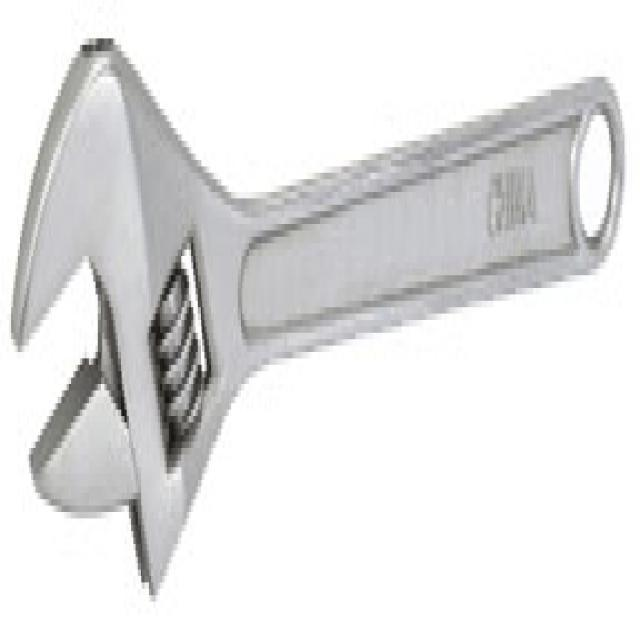wrench: (9, 28, 628, 588)
